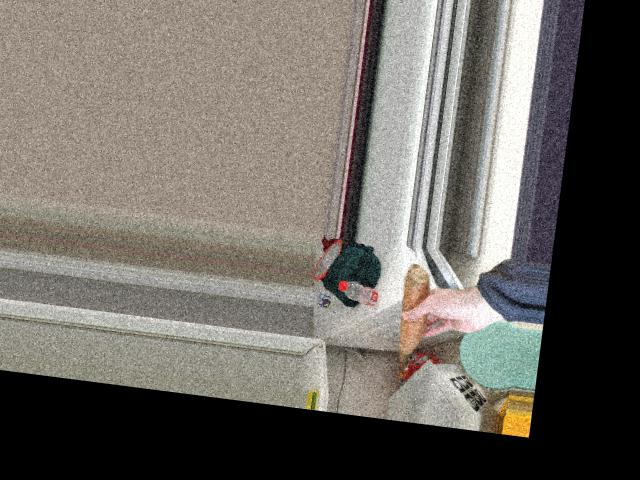sweet_potato: (396, 272, 432, 360)
